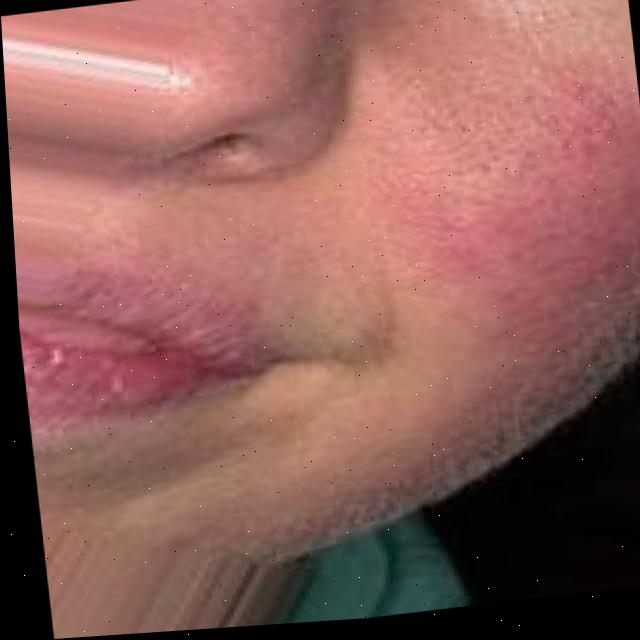Rosacea: (450, 88, 640, 346)
